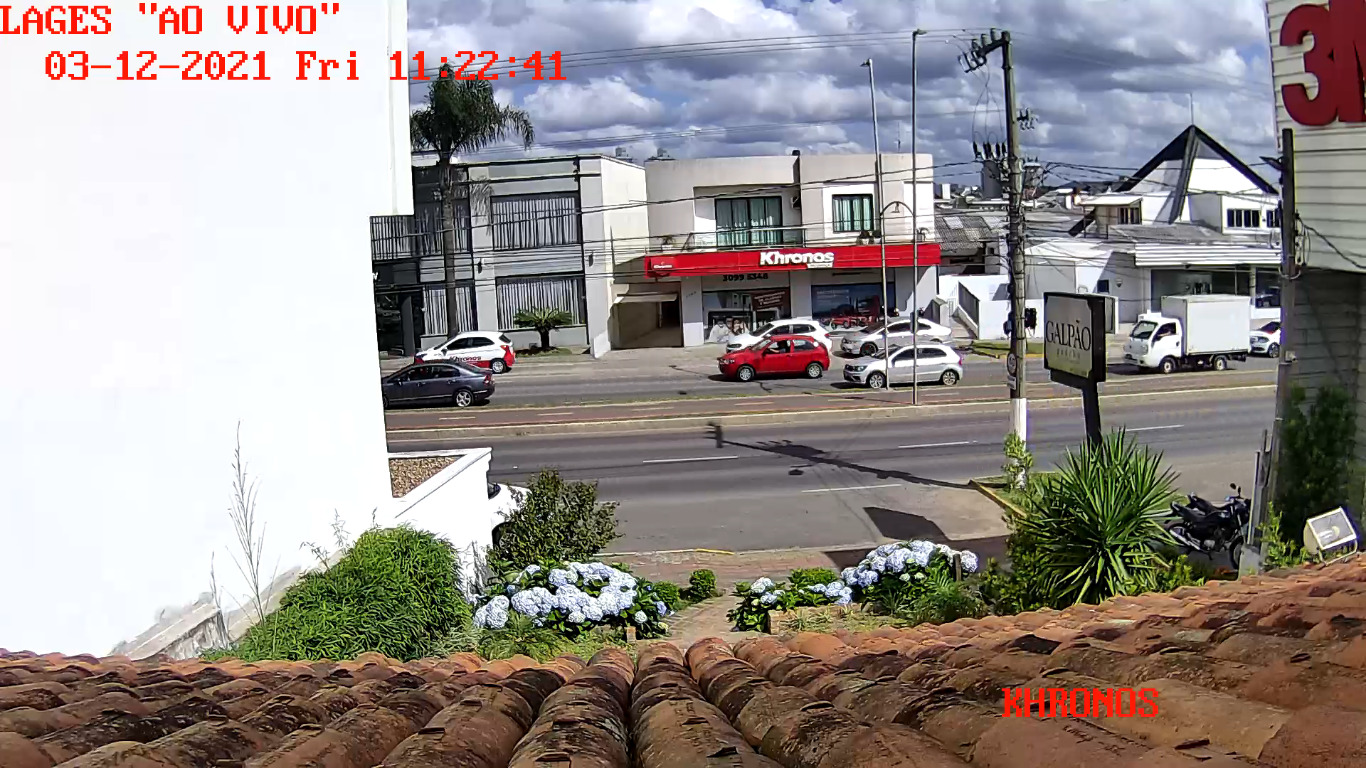car: (375, 358, 498, 409), (841, 340, 964, 389), (715, 334, 833, 381)
